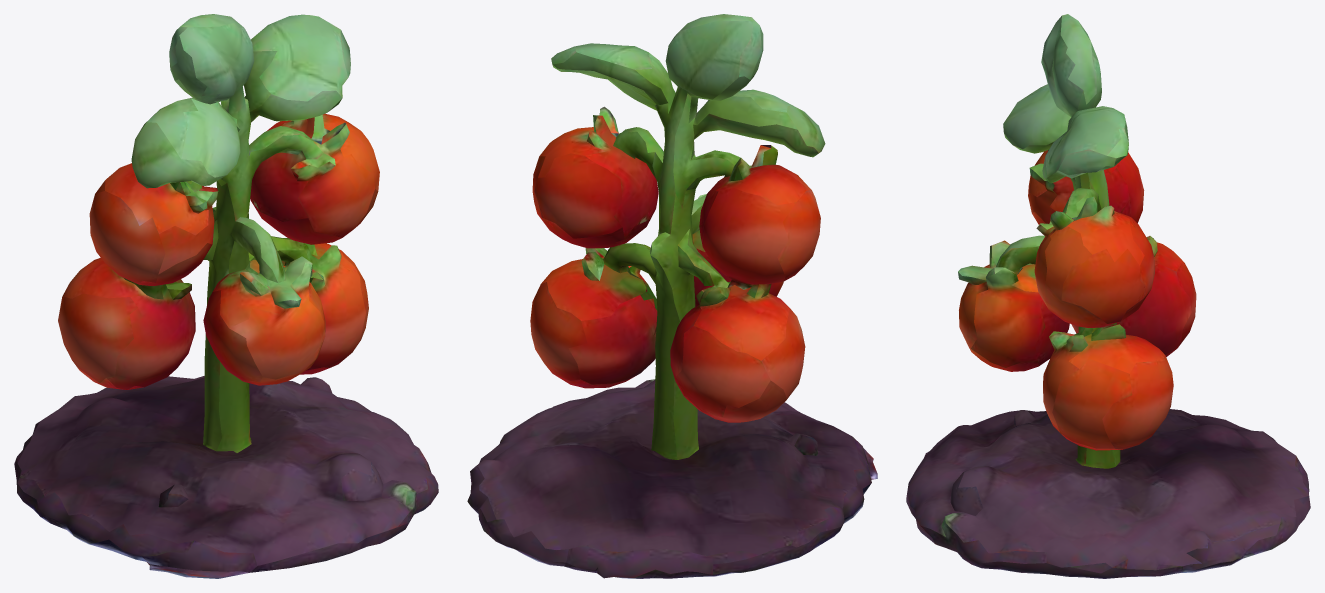
The model's file is crop_tomato.glb.
3 views of the same model, side by side, from view 1: azimuth 30°, elevation 25°; view 2: azimuth 150°, elevation 25°; view 3: azimuth 270°, elevation 25° (orthographic). The views are drawn at different scales.
Parts seen in each view (by area): view 1: crop_tomato_s15; view 2: crop_tomato_s15; view 3: crop_tomato_s15.
Part boxes in pixels (x1=…): crop_tomato_s15: x1=14, y1=14, x2=438, y2=578; crop_tomato_s15: x1=467, y1=14, x2=877, y2=578; crop_tomato_s15: x1=906, y1=14, x2=1310, y2=578.
Size of the model in its own units: 0.7407 by 1 by 0.7885.
1 material, 1 textured.
